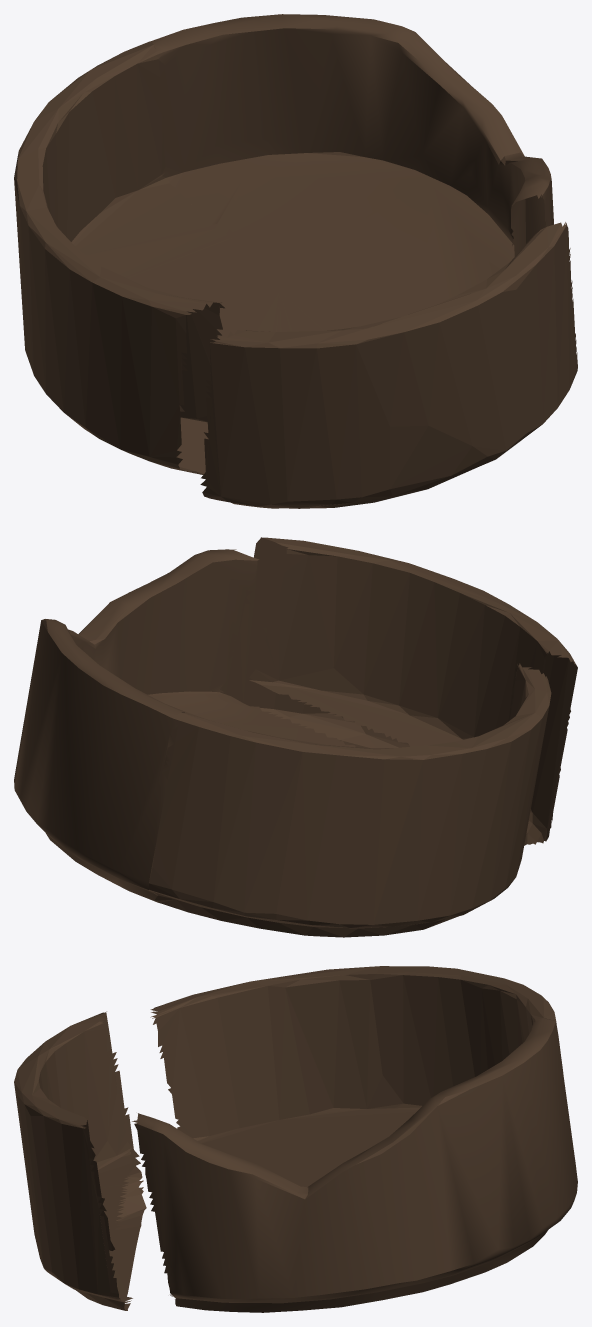
Rendered from mud.glb.
3 views of the same model, one above another, from view 1: azimuth 30°, elevation 25°; view 2: azimuth 150°, elevation 25°; view 3: azimuth 270°, elevation 25° (orthographic). The views are drawn at different scales.
Visible parts, largest first — view 1: tripo_node_56e11af5-4925-4d1f-b8ec-85cdae79ed07.005; view 2: tripo_node_56e11af5-4925-4d1f-b8ec-85cdae79ed07.005; view 3: tripo_node_56e11af5-4925-4d1f-b8ec-85cdae79ed07.005.
Part boxes in pixels (bbox=[...]): tripo_node_56e11af5-4925-4d1f-b8ec-85cdae79ed07.005: bbox=[14, 14, 577, 508]; tripo_node_56e11af5-4925-4d1f-b8ec-85cdae79ed07.005: bbox=[14, 537, 577, 937]; tripo_node_56e11af5-4925-4d1f-b8ec-85cdae79ed07.005: bbox=[14, 966, 577, 1312].
Size of what is drawn, in the model's own units: 0.3877 by 0.2177 by 0.4236.
